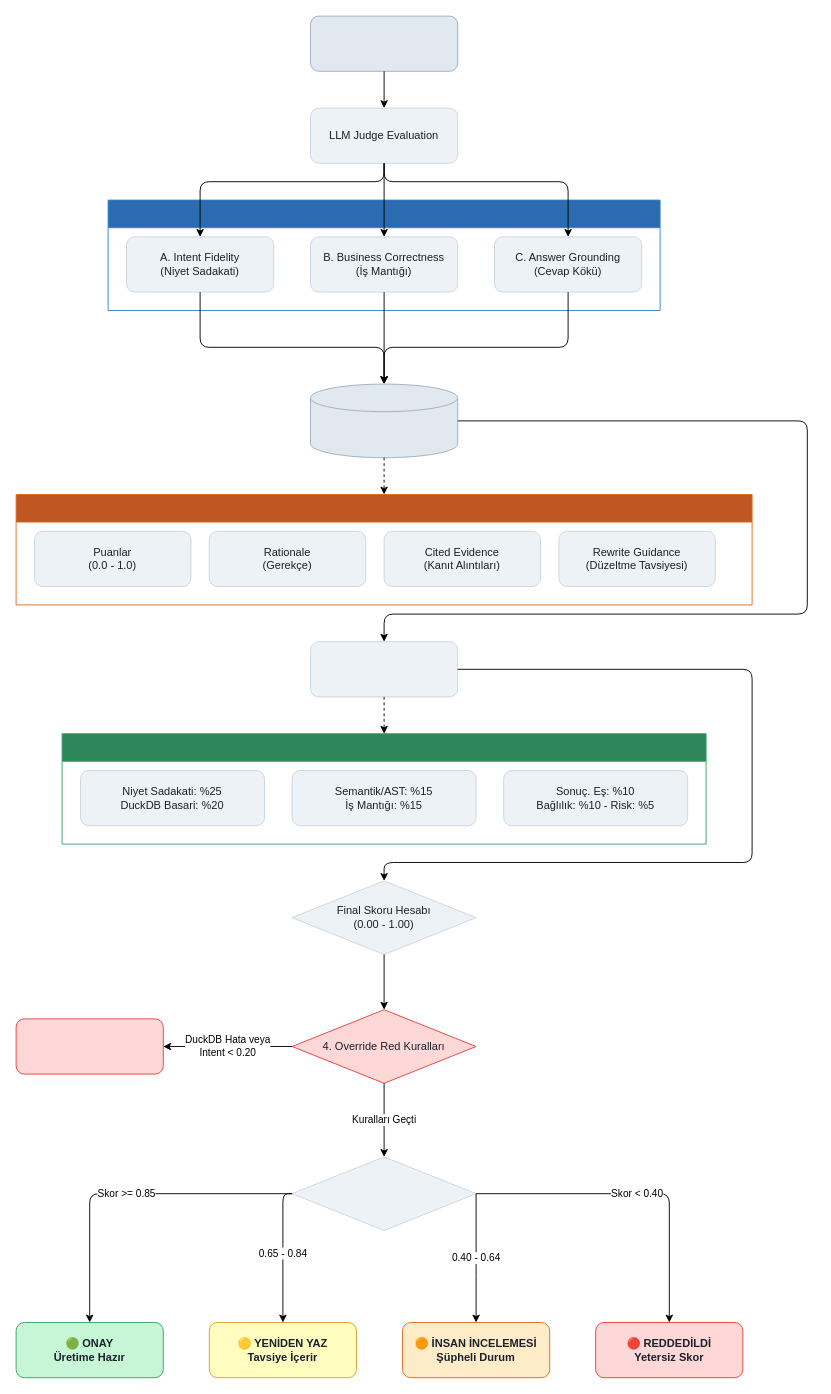
Some shapes in this 831 by 1394 pixel diagram are drawn without their labels. The shapes that lost their labels are listed below. From the top down, each one's box as (x1, y1, x2, y2) in pixels, then its label:
(310, 15, 458, 71): EvalContext (from Phase 1)
(107, 199, 660, 310): 1. Hangi 3 Konuyu Puanlıyor?
(310, 383, 458, 458): Kapsamlı JSON Nesnesi
(15, 494, 752, 605): 2. Hakem Çıktısı JSON
(310, 641, 458, 697): Composite Scoring Engine
(61, 733, 706, 844): 3. Puan Birleştirme Matematiği
(15, 1018, 163, 1074): 🔴 REDDEDİLDİ Çöp Kod/Hata
(291, 1156, 476, 1230): Karar Sınırları (Thresholds)
